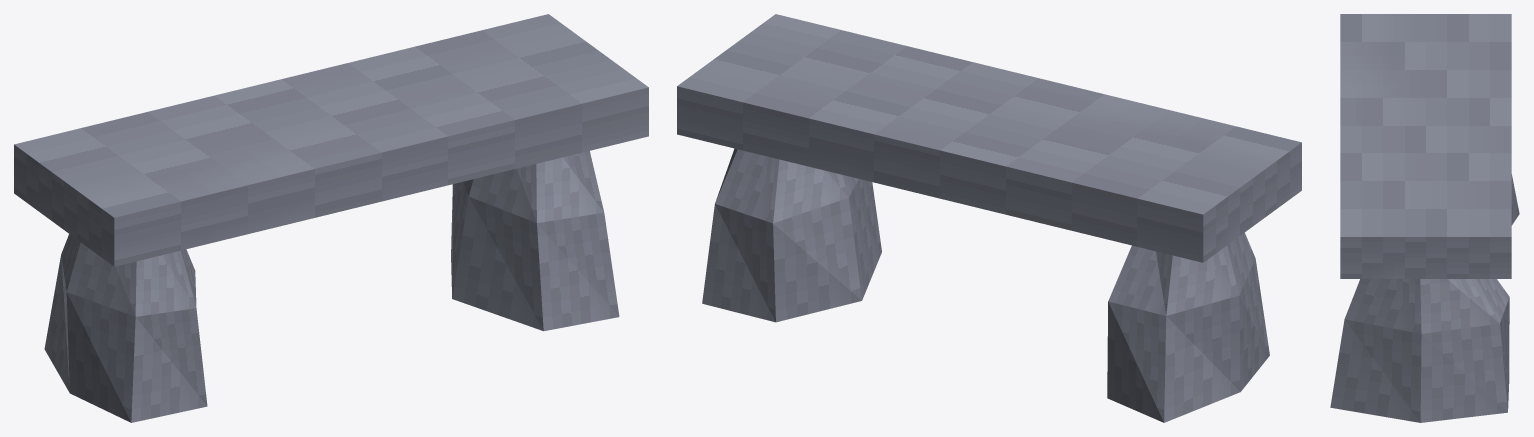
The model's file is cave-and-crystal-networks-natural-rock-bridge-60883da8.glb.
3 renders of one model, left to right at view 1: azimuth 30°, elevation 25°; view 2: azimuth 150°, elevation 25°; view 3: azimuth 270°, elevation 25°, orthographic. The views are drawn at different scales.
Parts seen in each view (by area): view 1: natural-rock-bridge; view 2: natural-rock-bridge; view 3: natural-rock-bridge.
Boxes of the visible parts, <box> form: natural-rock-bridge: <box>14,14,648,422</box>; natural-rock-bridge: <box>677,14,1301,422</box>; natural-rock-bridge: <box>1330,14,1519,422</box>.
Bounding box in the file's own units: 4.01 × 1.55 × 1.43.
1 material, 1 textured.
